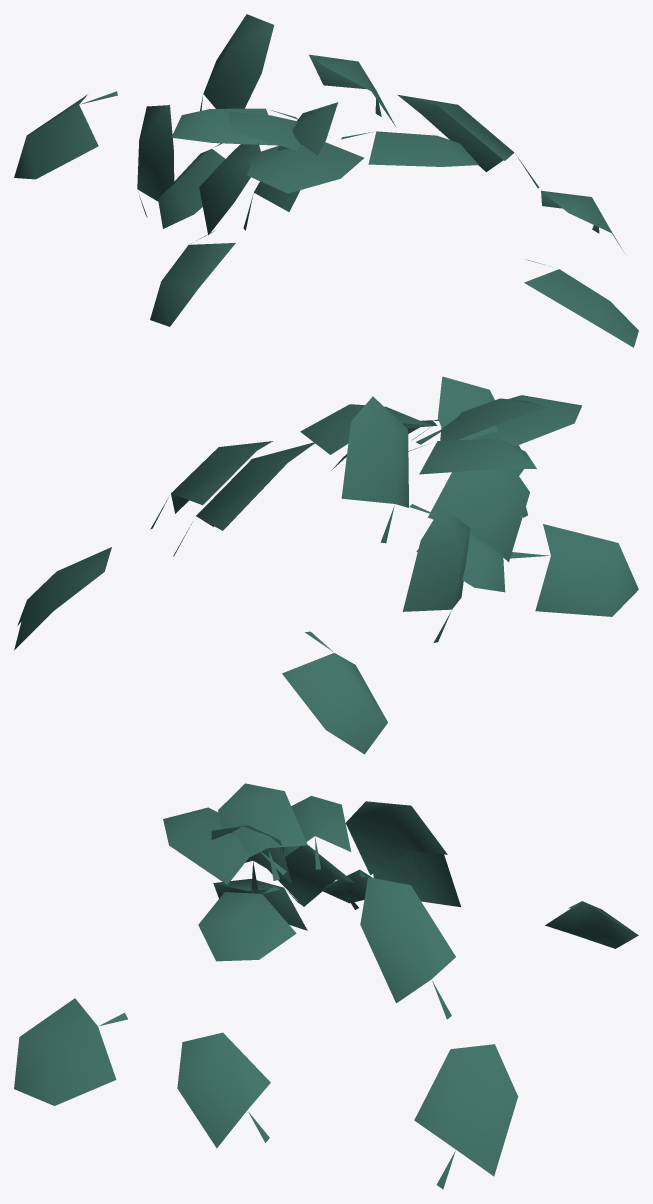
Rendered from IvyStone.fbx.
The picture shows the model from 3 angles, top to bottom: view 1: azimuth 30°, elevation 25°; view 2: azimuth 150°, elevation 25°; view 3: azimuth 270°, elevation 25°; orthographic projection. The views are drawn at different scales.
Visible parts, largest first — view 1: IvyStone; view 2: IvyStone; view 3: IvyStone.
Part boxes in pixels (x1,y1,x2,y2): IvyStone: (14,14,638,347); IvyStone: (14,376,638,754); IvyStone: (14,783,638,1189).
Bounding box in the file's own units: 1.37 × 1.63 × 0.7191.
